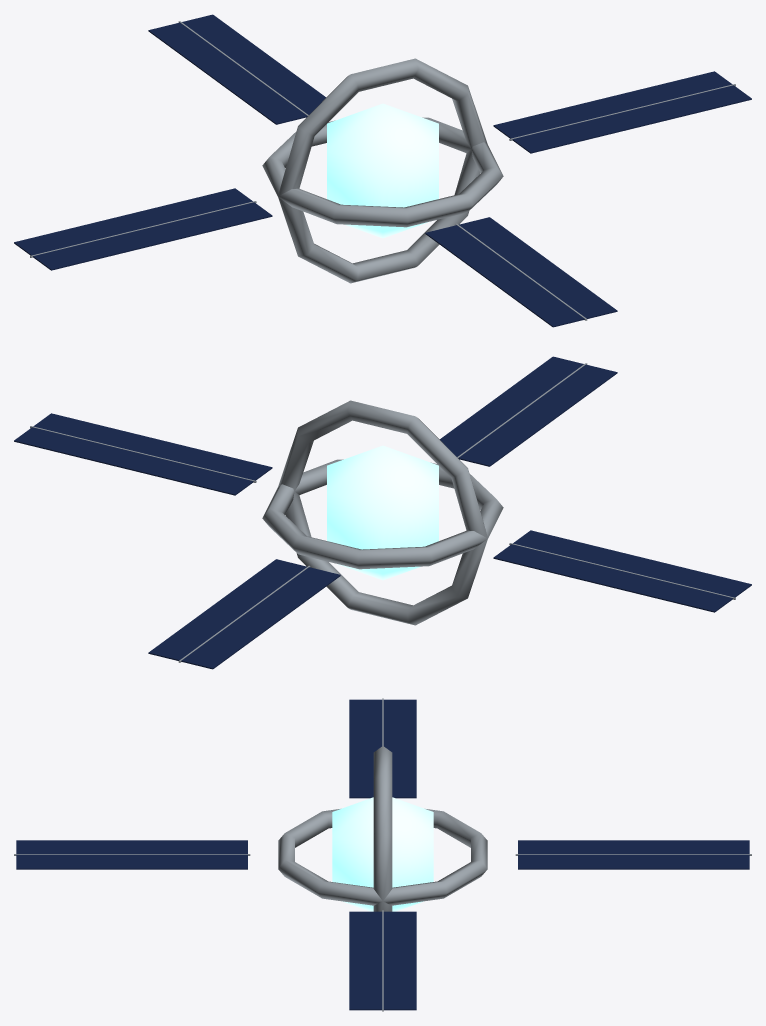
File: space_orbital_energy_t2_lod1.glb
3 renders of one model, top to bottom at view 1: azimuth 30°, elevation 25°; view 2: azimuth 150°, elevation 25°; view 3: azimuth 270°, elevation 25°, orthographic. The views are drawn at different scales.
Visible parts, largest first — view 1: body, solar_0, solar_2, solar_1, solar_3; view 2: body, solar_0, solar_2, solar_3, solar_1; view 3: body, solar_1, solar_3, solar_0, solar_2.
Part boxes in pixels (x1,y1,x2,y2): body: (262,58,503,283); solar_0: (493,71,751,153); solar_2: (14,188,272,270); solar_1: (425,217,617,327); solar_3: (148,14,325,124); body: (262,400,503,625); solar_0: (14,413,272,495); solar_2: (493,530,751,612); solar_3: (148,559,340,669); solar_1: (440,356,617,466); body: (278,746,487,911); solar_1: (14,840,250,869); solar_3: (515,840,751,869); solar_0: (349,910,416,1011); solar_2: (349,698,416,798).
Size of the model in its own units: 38.24 by 10.84 by 38.24.
